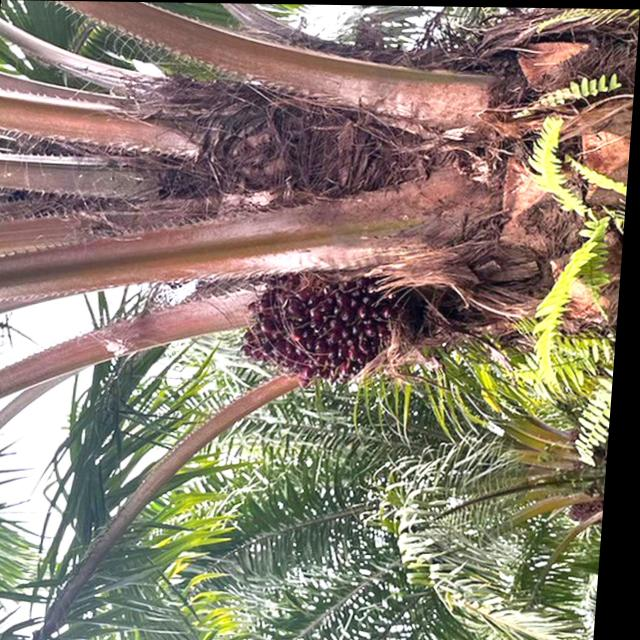ripe: (232, 261, 414, 379)
